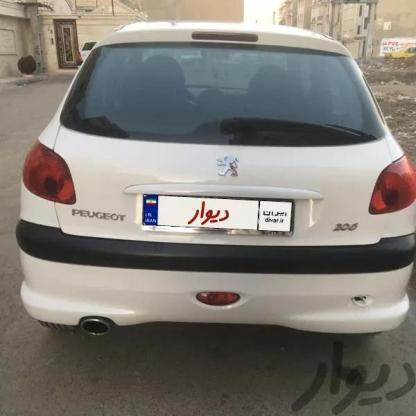Car: (0, 24, 416, 338), (72, 39, 100, 71), (381, 39, 416, 64)
